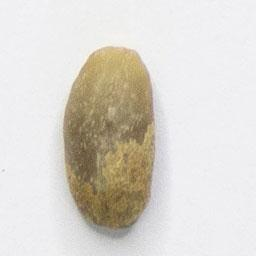longberry: (58, 42, 161, 232)
